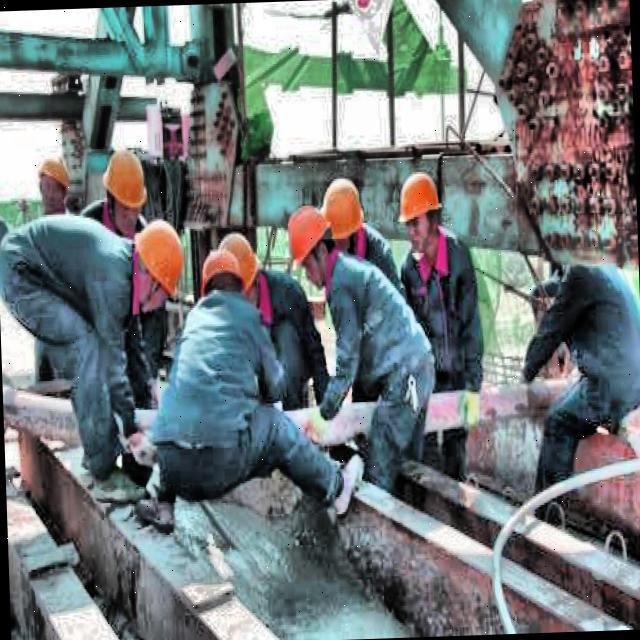helmet: (126, 212, 190, 312), (98, 138, 150, 234), (319, 171, 368, 271), (394, 164, 446, 256), (286, 200, 337, 285), (32, 144, 74, 217), (200, 246, 248, 307), (217, 230, 262, 292)
